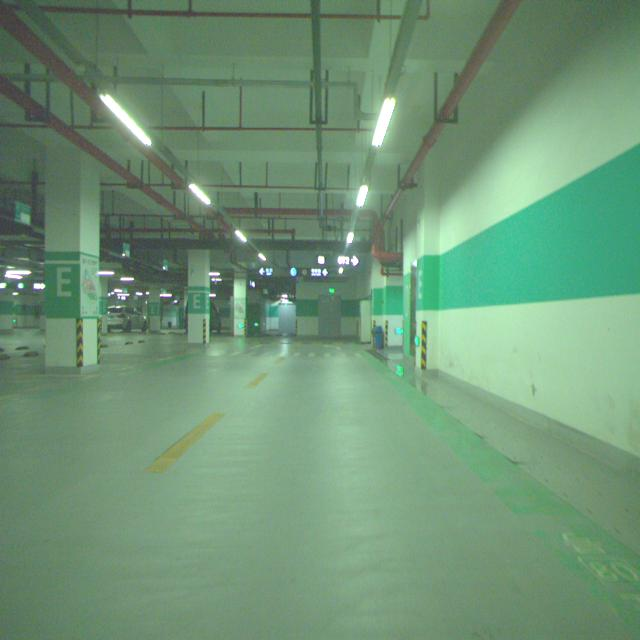pillar: (45, 141, 100, 365), (188, 250, 210, 344)
wall: (415, 198, 440, 371)
